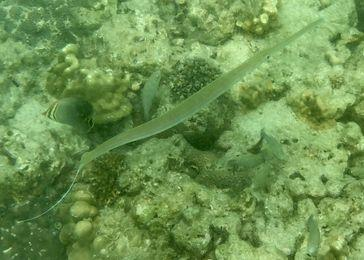Fistularia commersonii: (62, 23, 350, 148)
